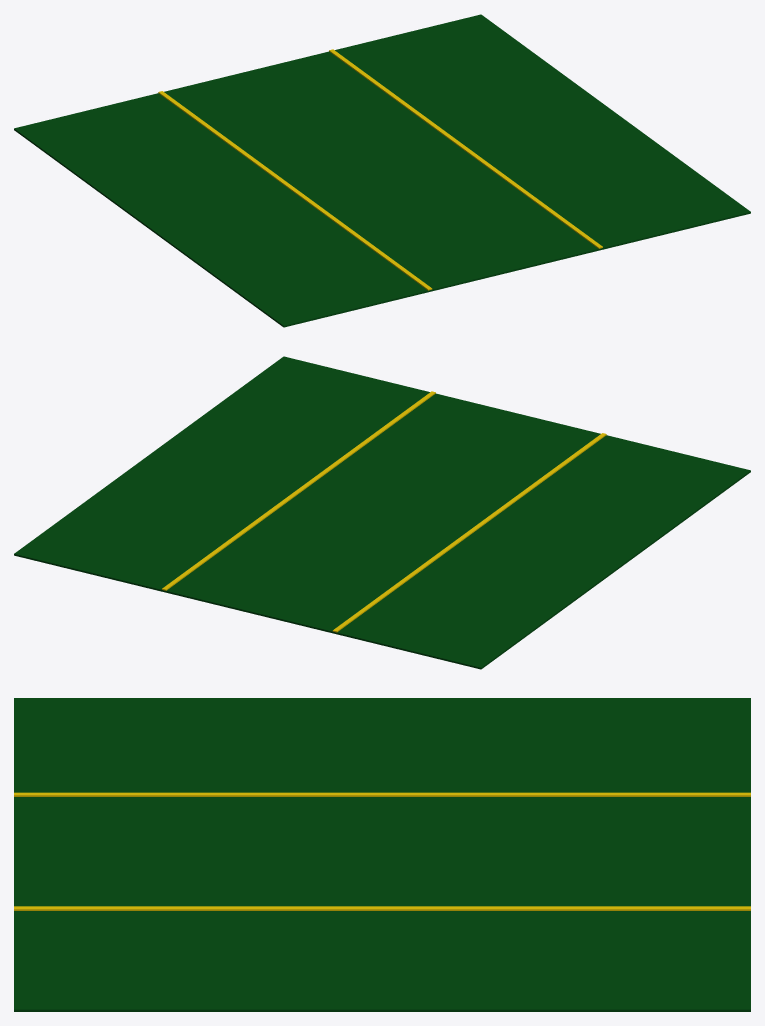
The model's file is join2_tile.glb.
3 renders of one model, top to bottom at view 1: azimuth 30°, elevation 25°; view 2: azimuth 150°, elevation 25°; view 3: azimuth 270°, elevation 25°, orthographic. The views are drawn at different scales.
Visible parts, largest first — view 1: Plane.001; view 2: Plane.001; view 3: Plane.001.
Part boxes in pixels (<box>): Plane.001: <box>14,14,750,327</box>; Plane.001: <box>14,356,750,669</box>; Plane.001: <box>14,698,750,1011</box>.
Bounding box in the file's own units: 115 × 0.6979 × 116.
